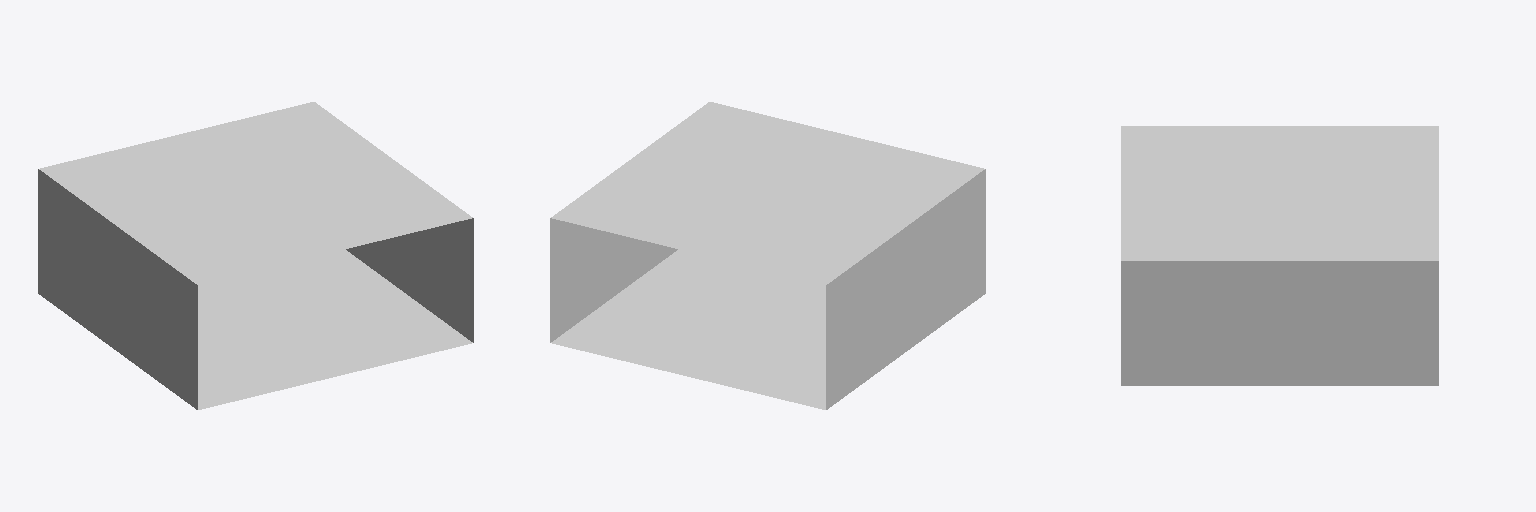
File: test_room_mapped.obj
The picture shows the model from 3 angles: view 1: azimuth 30°, elevation 25°; view 2: azimuth 150°, elevation 25°; view 3: azimuth 270°, elevation 25°; orthographic projection.
Visible parts, largest first — view 1: mesh01; view 2: mesh01; view 3: mesh01.
Part boxes in pixels (bbox=[...]): mesh01: bbox=[38, 102, 473, 409]; mesh01: bbox=[550, 102, 985, 409]; mesh01: bbox=[1121, 126, 1438, 385].
Bounding box in the file's own units: 1096 × 475 × 1096.